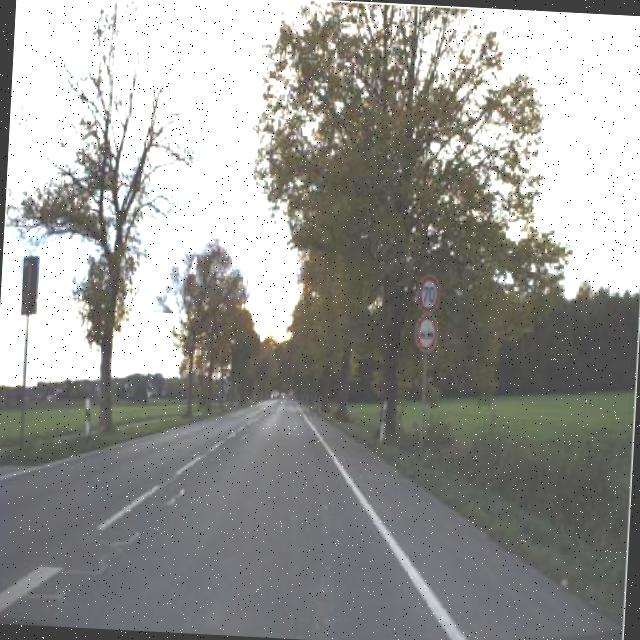Ograniczenie predkosci do 70: (415, 271, 442, 314)
